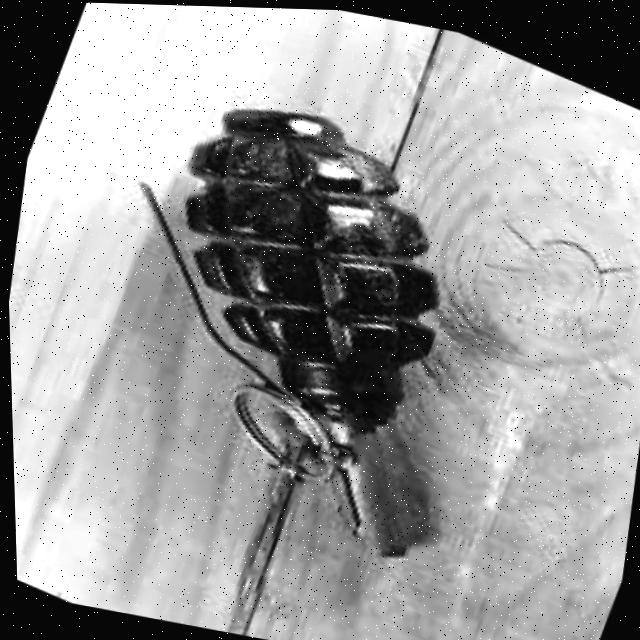grenade: (76, 64, 557, 581)
